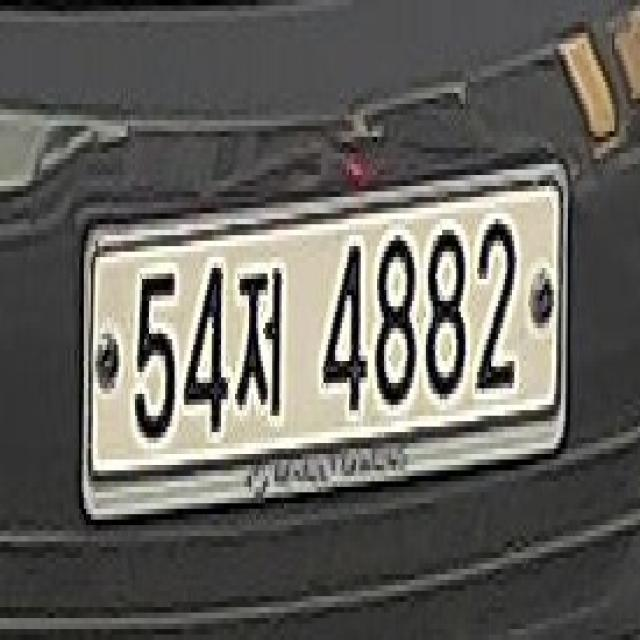2: (472, 213, 536, 416)
4: (319, 218, 370, 438), (186, 230, 233, 443)
5: (124, 252, 174, 438)
8: (419, 208, 468, 416), (366, 230, 416, 421)
jeo: (223, 257, 300, 421)
license_plate: (68, 159, 572, 547)
